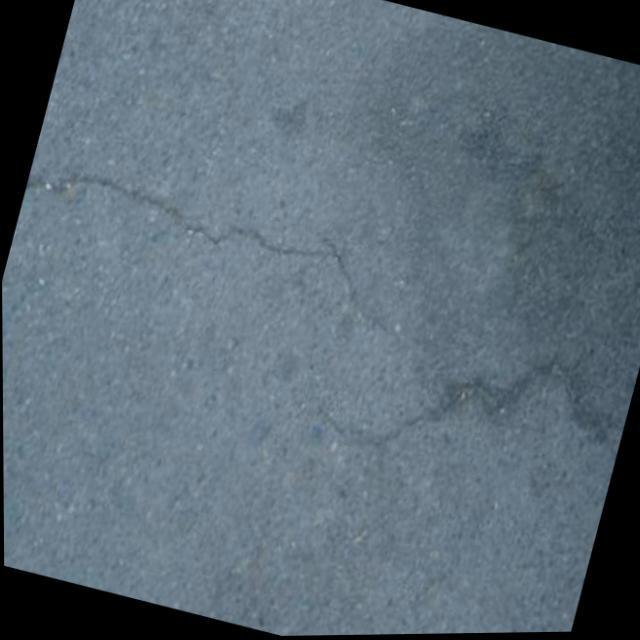Crack: (8, 111, 422, 368), (321, 303, 637, 515)
